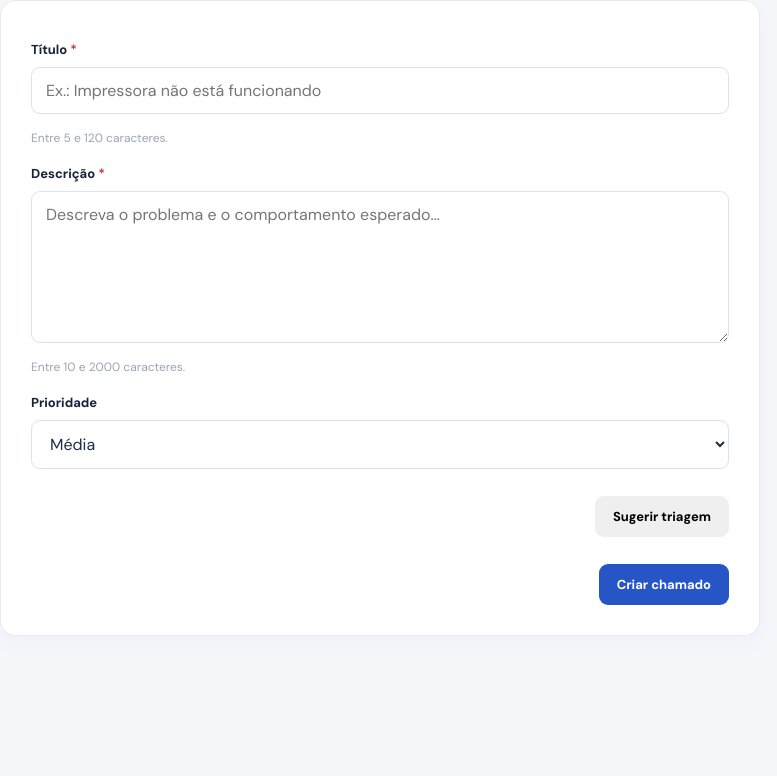
Test: TicketForm — triagem simulada › exibe sugestão e só altera prioridade após confirmação
Type "Sistema fora do ar" into the field labelled "Título *". click: (380, 90)
box: left=31, top=67, right=729, bottom=114
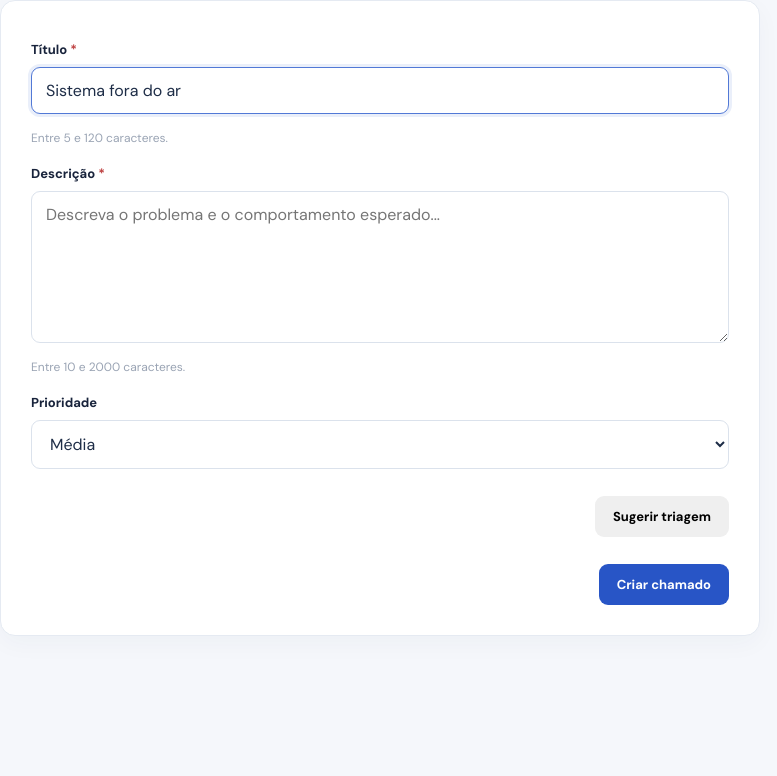
Type "Ninguém consegue emitir nota fiscal" into the text box labelled "Descrição *". click: (380, 267)
box: left=31, top=191, right=729, bottom=343
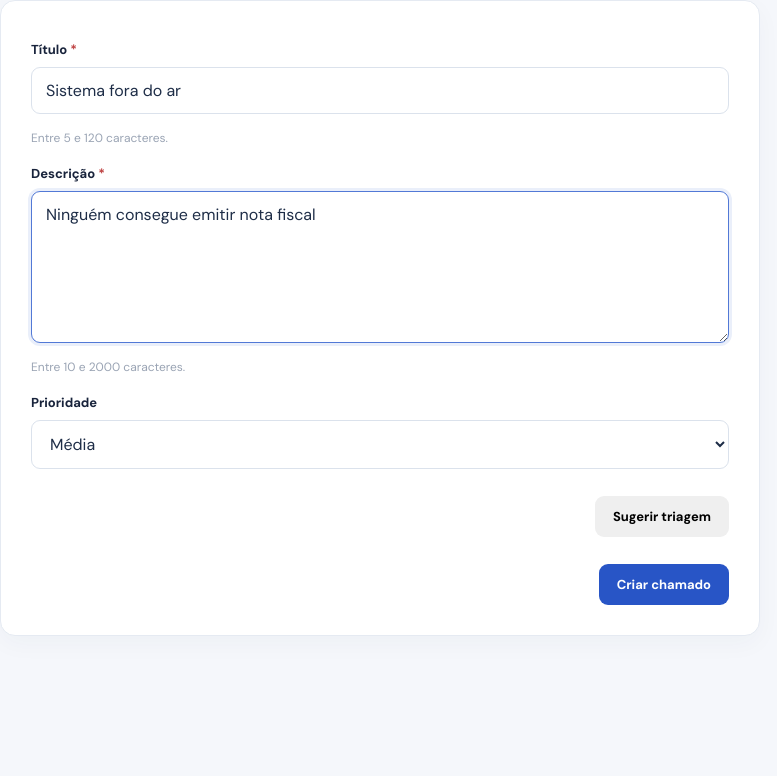
Click the button "Sugerir triagem". click: click(662, 516)
box: left=595, top=496, right=729, bottom=537
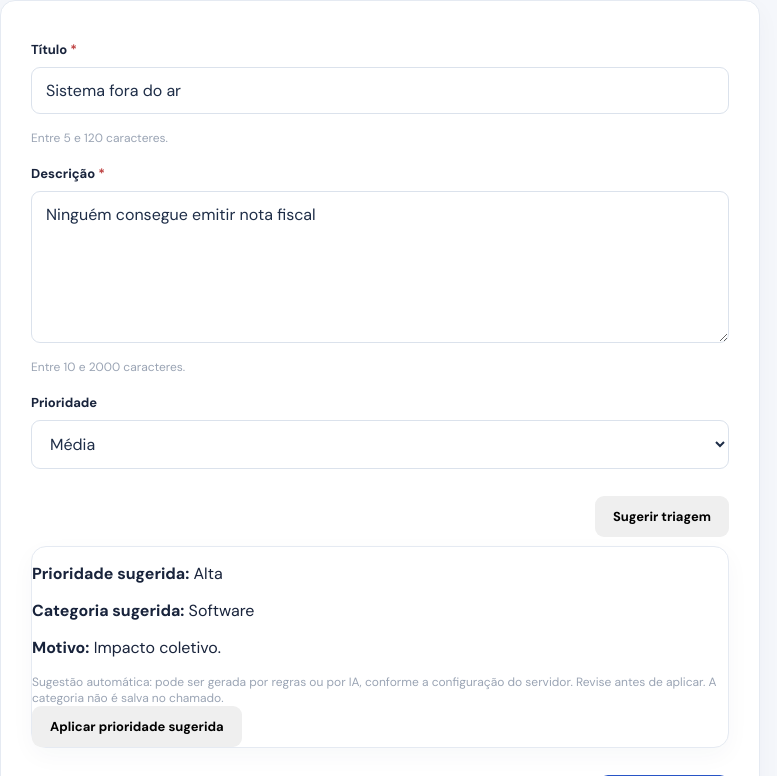
Check: the dropdown labelled "Prioridade" shows "Média", box left=31, top=420, right=729, bottom=469
Check: the text "Impacto coletivo." is shown, box left=94, top=637, right=221, bottom=658
Click the button "Aplicar prioridade sugerida". click: click(137, 726)
box: left=32, top=706, right=242, bottom=747
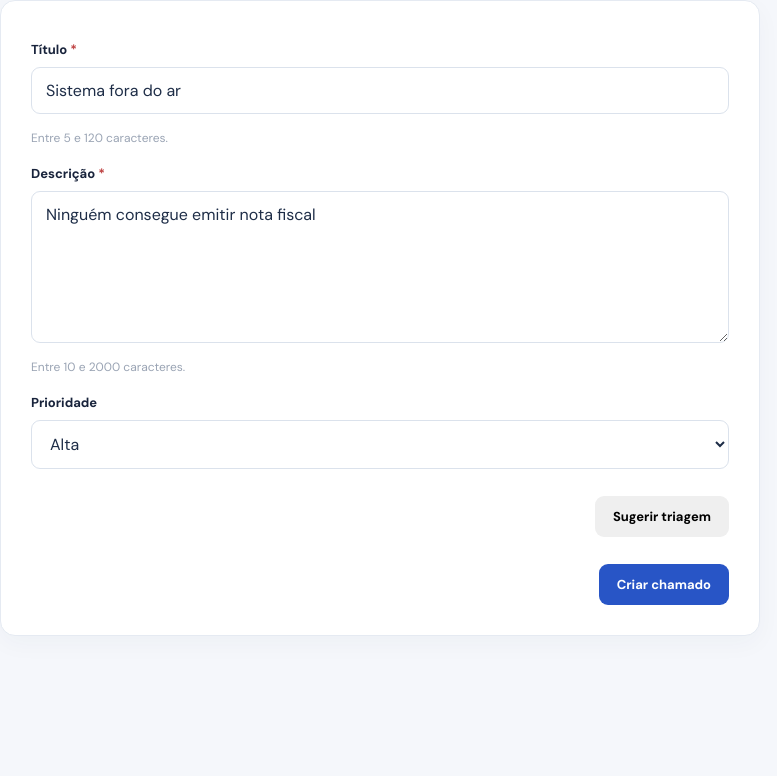
Check: the dropdown labelled "Prioridade" shows "Alta", box left=31, top=420, right=729, bottom=469
